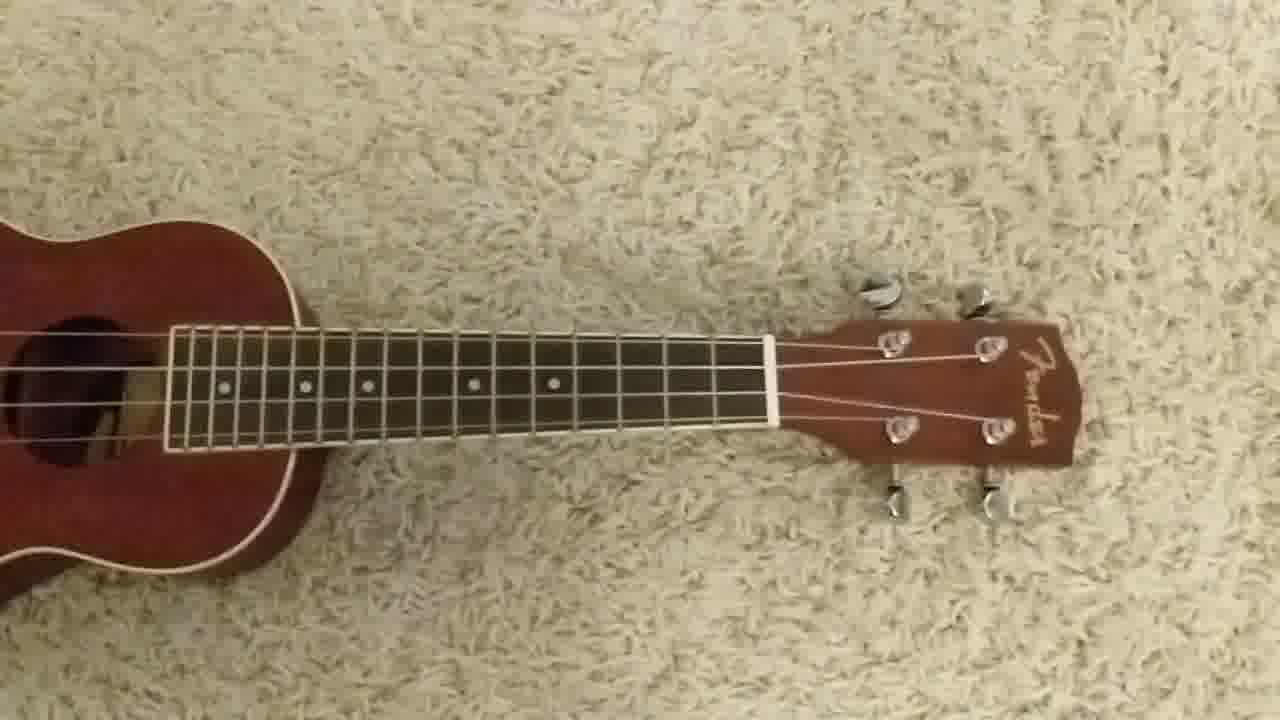Body: (1, 208, 330, 599)
Headstock: (777, 272, 1088, 529)
